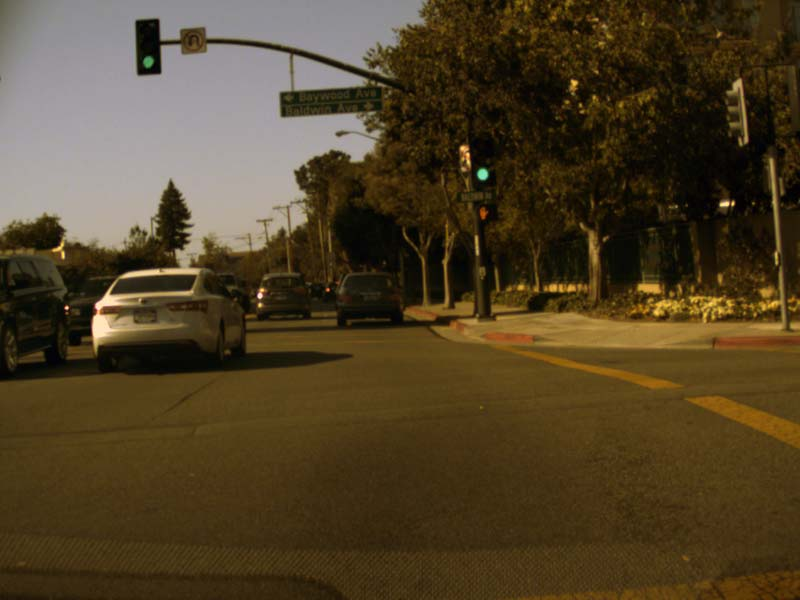Green: (136, 18, 160, 76), (471, 136, 494, 186)
